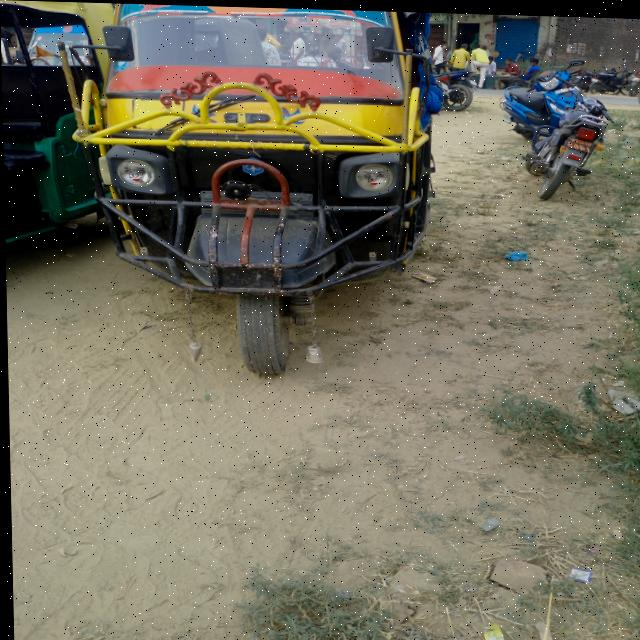plate: (565, 133, 595, 150), (555, 82, 575, 90), (441, 80, 449, 88), (469, 77, 477, 82), (632, 73, 640, 78), (591, 74, 598, 78), (576, 72, 582, 75)
